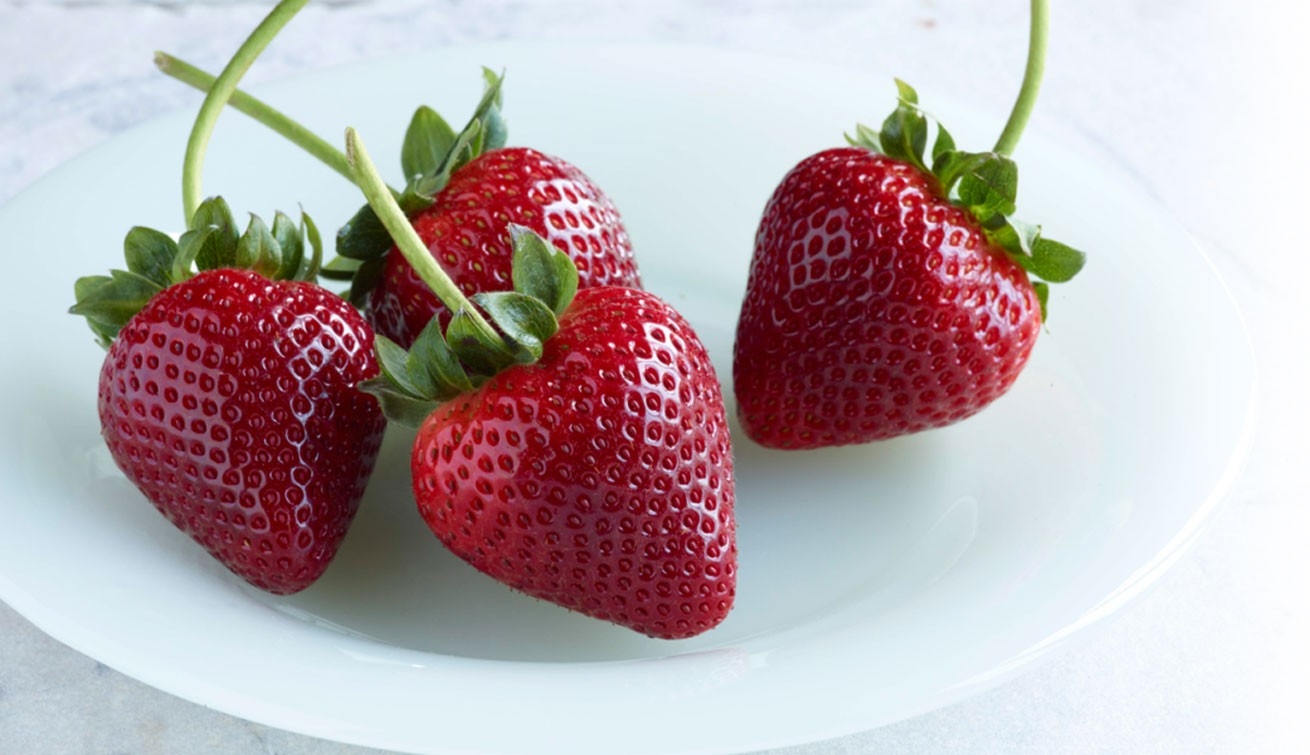strawberry: (418, 294, 758, 637), (736, 142, 1072, 453), (90, 275, 383, 586), (345, 135, 644, 340)
